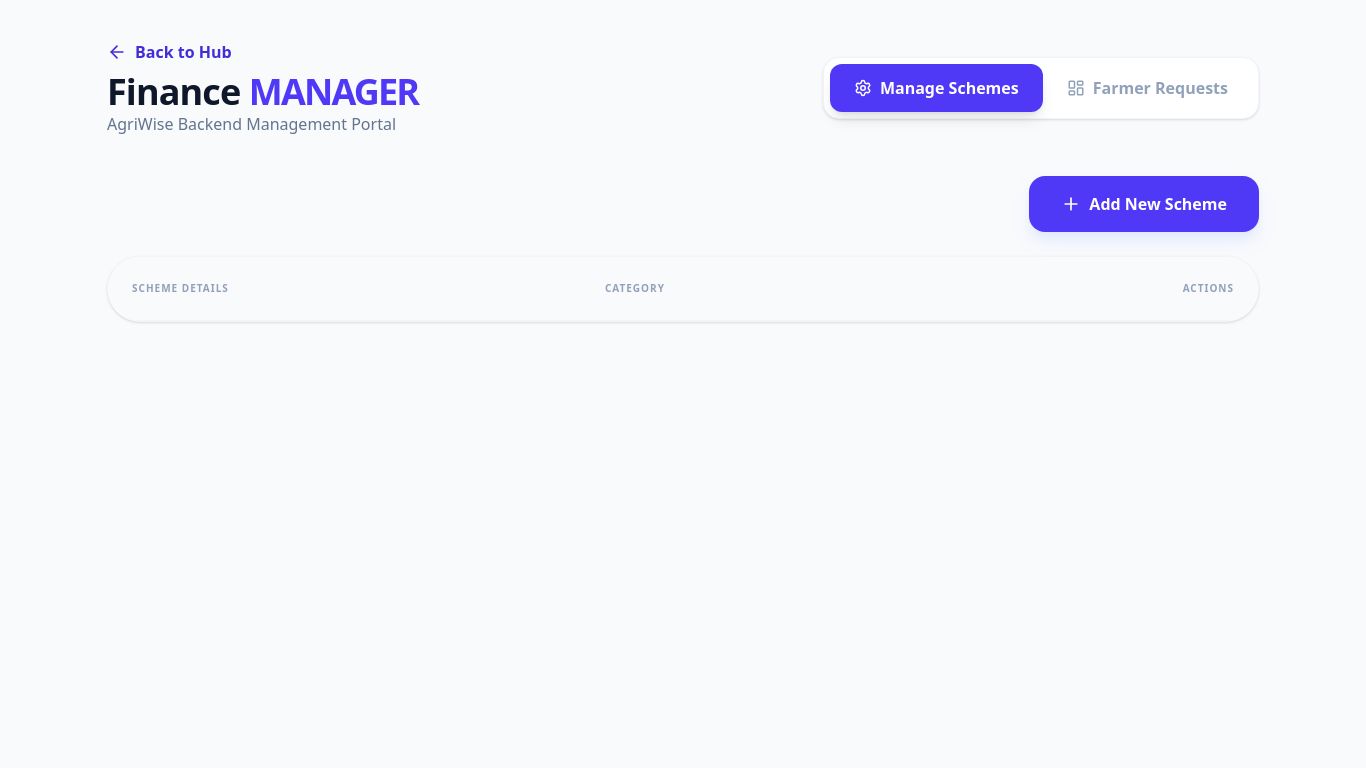
Test case: FinanceAdmin Component › adds a new scheme
This screenshot has width=1366, height=768.
Click the button "Add New Scheme". click: (1144, 204)
box: [1029, 176, 1259, 232]
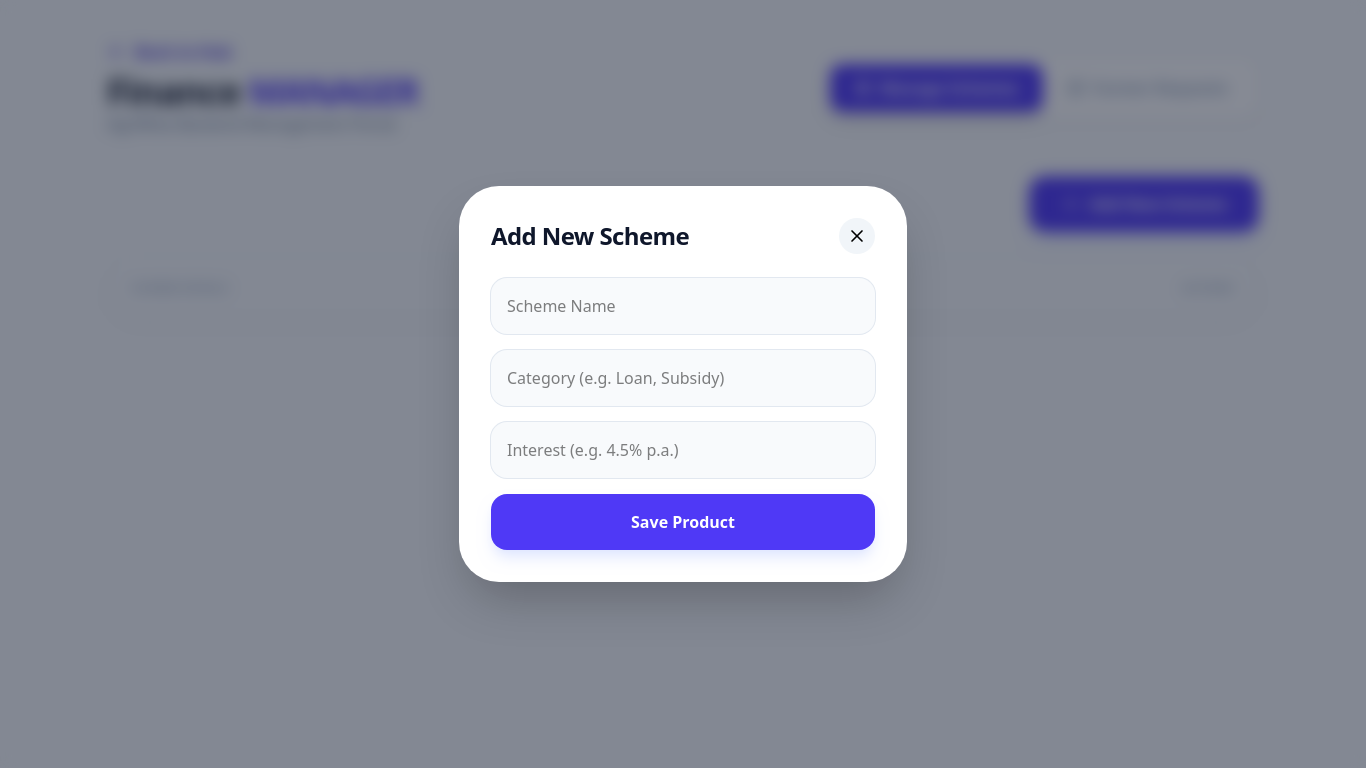
Type "Subsidy Plan" into the field with placeholder "Scheme Name". click: (683, 306)
box: [491, 278, 875, 334]
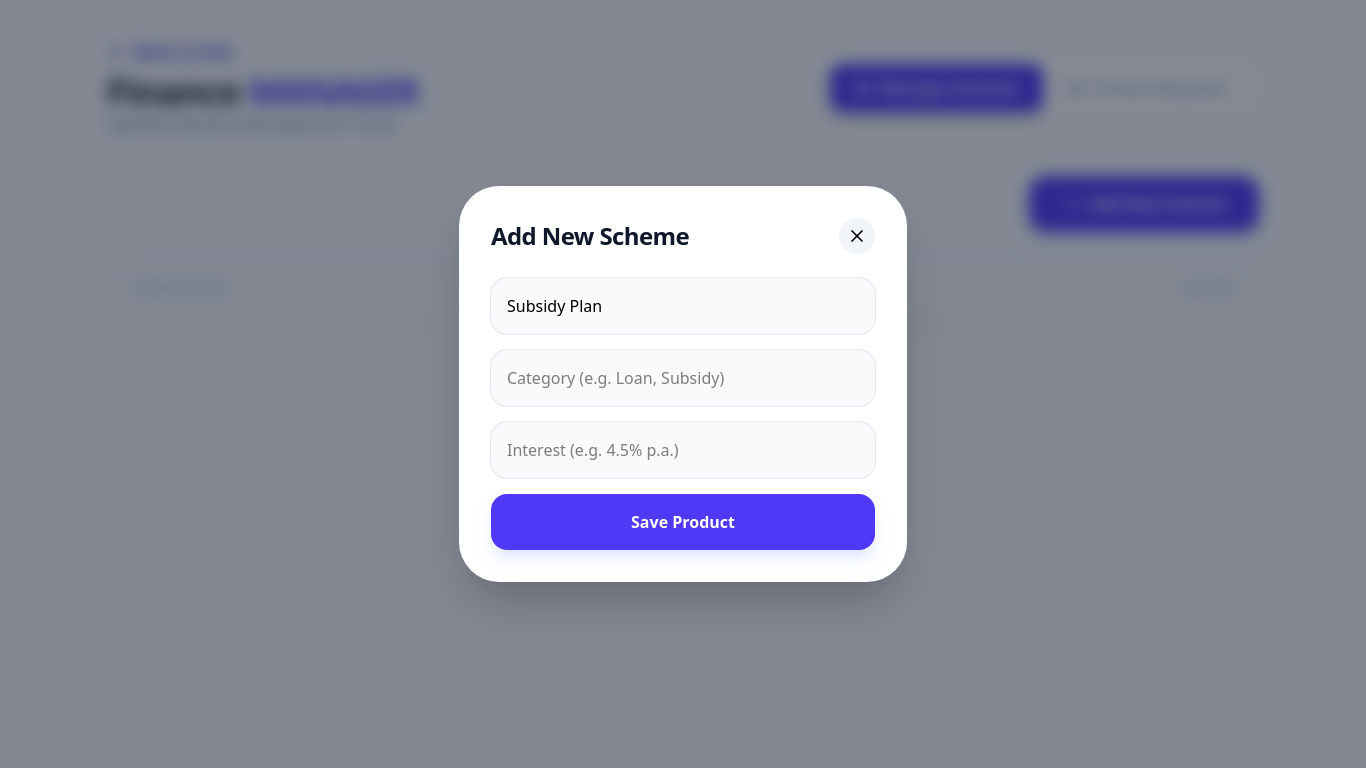
Type "Subsidy" into the field with placeholder "Category (e.g. Loan, Subsidy)". click: (683, 378)
box: [491, 350, 875, 406]
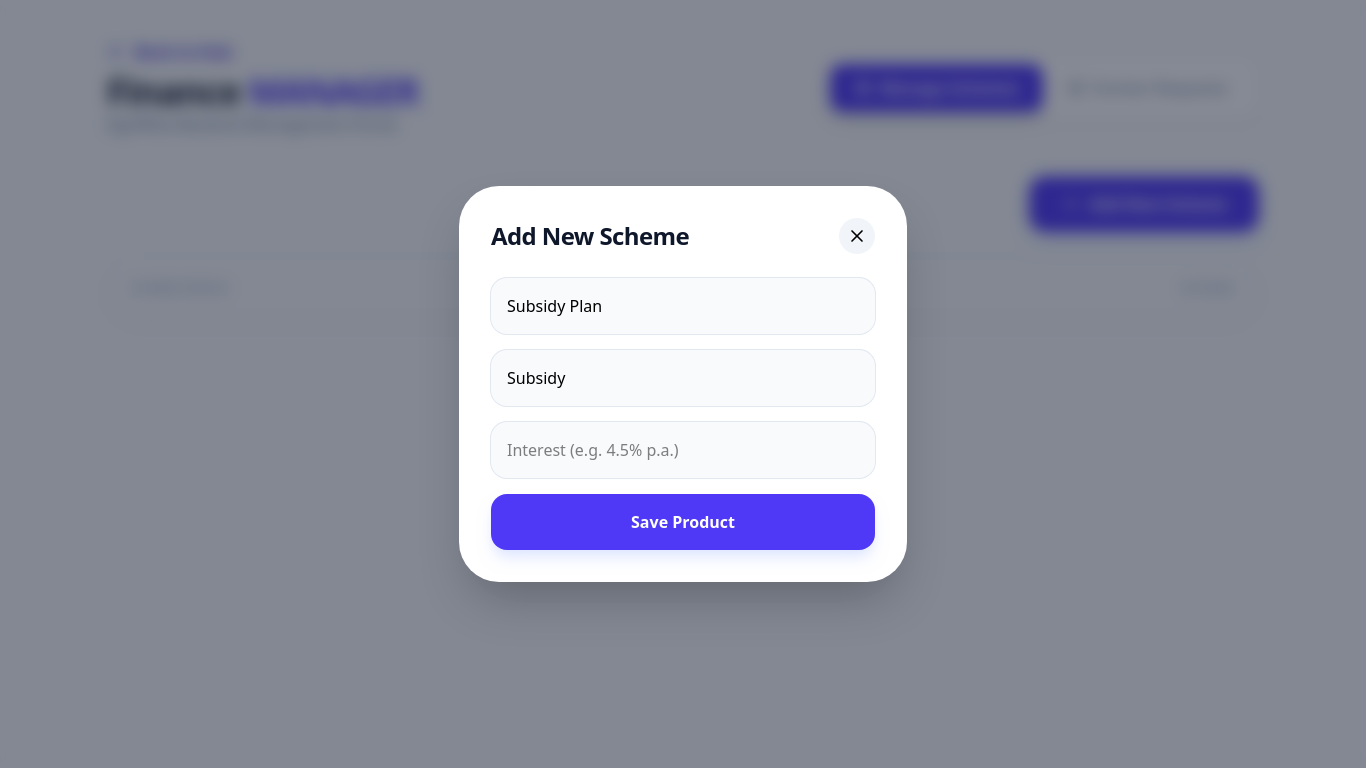
Type "2%" into the field with placeholder "Interest (e.g. 4.5% p.a.)". click: (683, 450)
box: [491, 422, 875, 478]
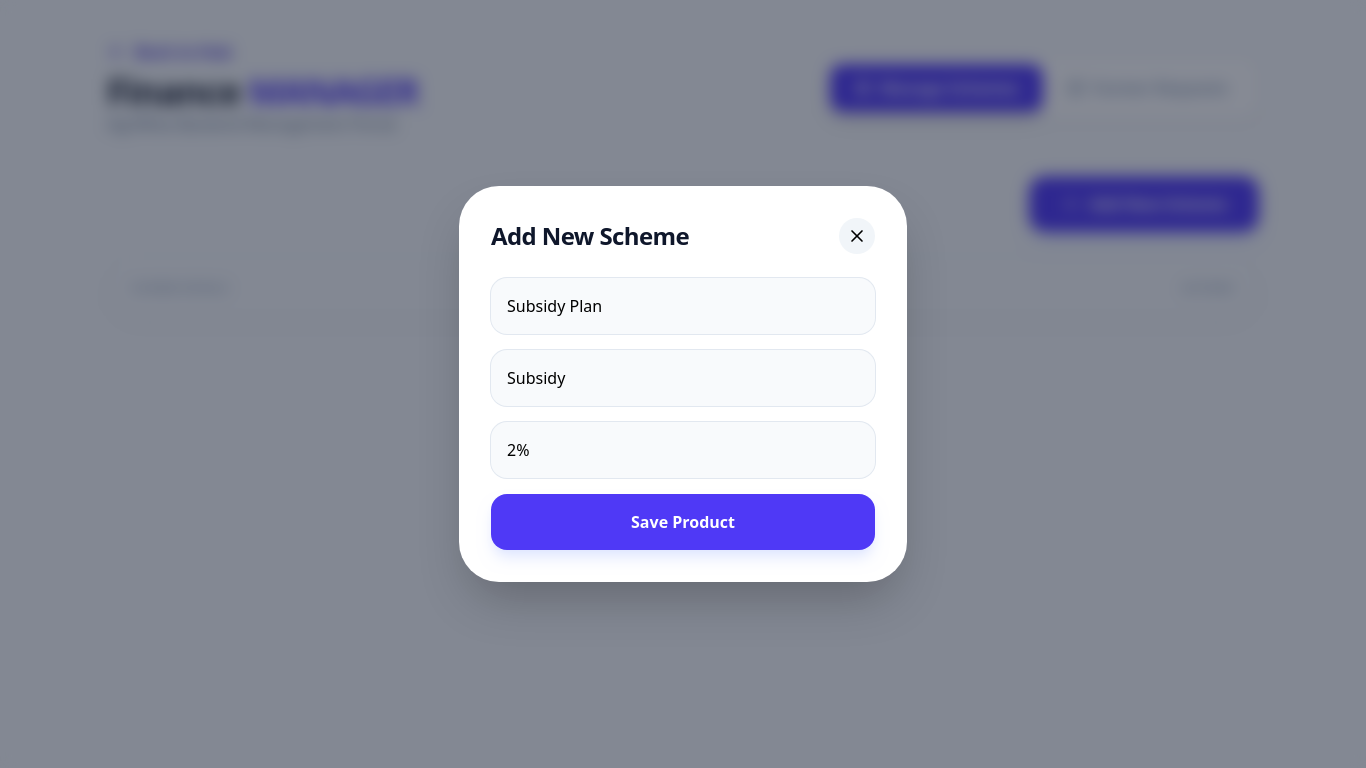
Click the button "Save Product". click: (683, 522)
box: [491, 494, 875, 550]
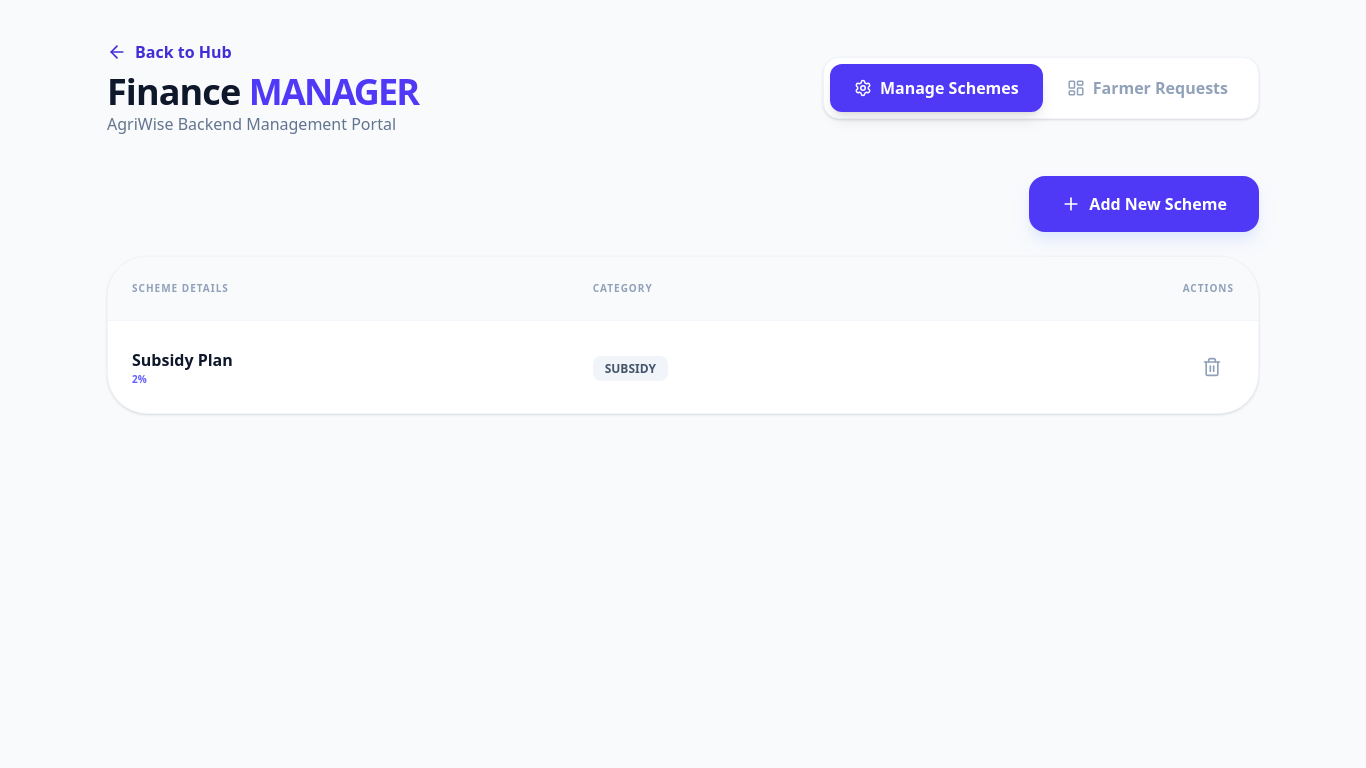
Result: the text "Subsidy Plan" is shown at [132, 348, 233, 370]
